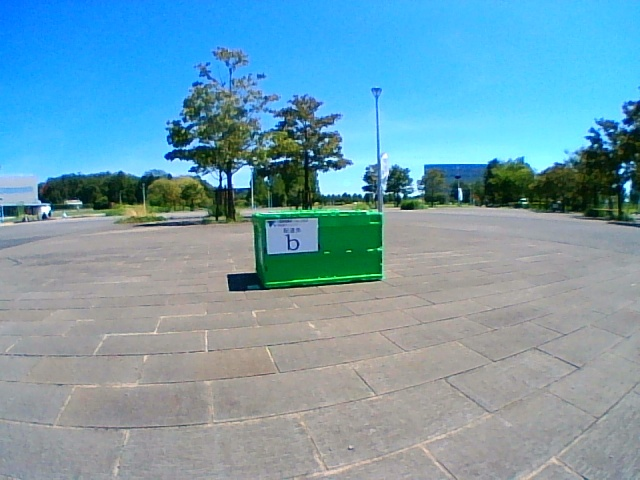green_box: (253, 210, 384, 288)
tag_b: (267, 220, 318, 251)
